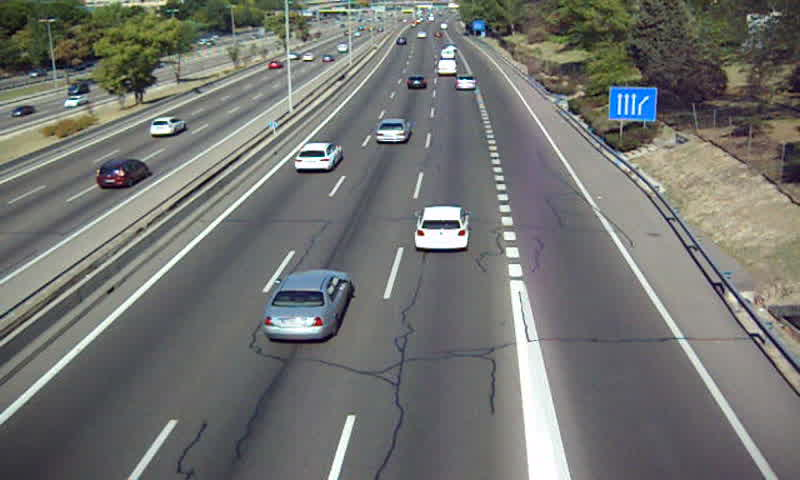car: (262, 269, 351, 342), (415, 206, 468, 250), (294, 143, 341, 172), (376, 119, 411, 145), (456, 74, 479, 92), (405, 76, 428, 91)
van: (436, 60, 457, 75), (442, 48, 456, 60)
